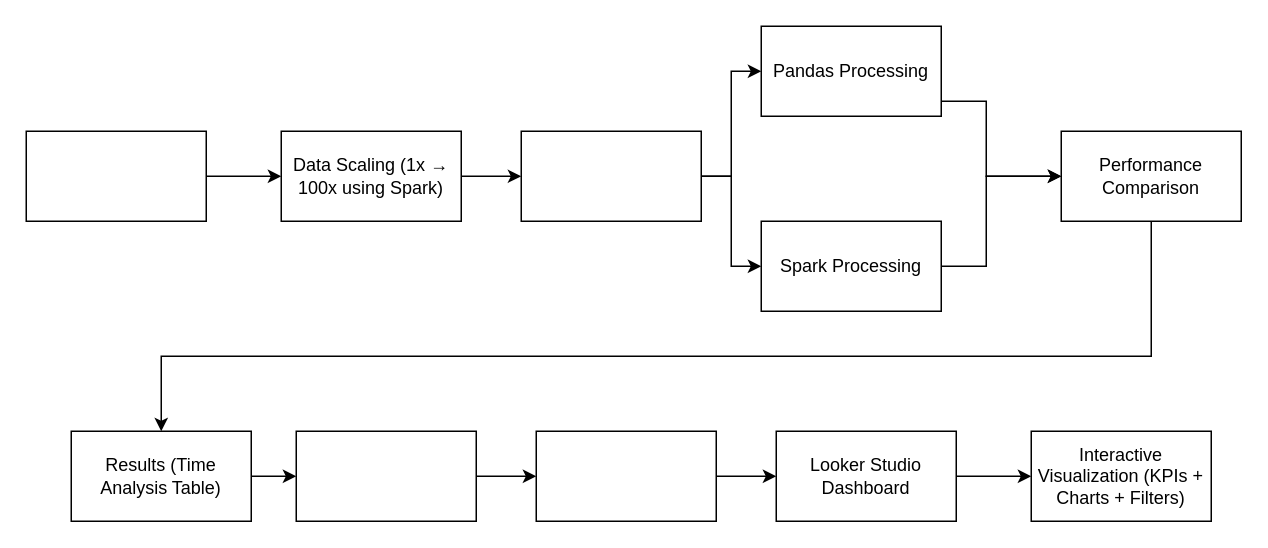
The diagram is 1268 pixels wide and 548 high, and some of its shapes have lost their labels. Here are the shapes that lost their labels. From the top down, the centre of each, then its label:
At [115,175]: "Flights CSV Dataset".
At [610,175]: "Processing Layer".
At [385,475]: "Data Cleaning (Spark)".
At [625,475]: "BigQuery (Storage Layer)".
